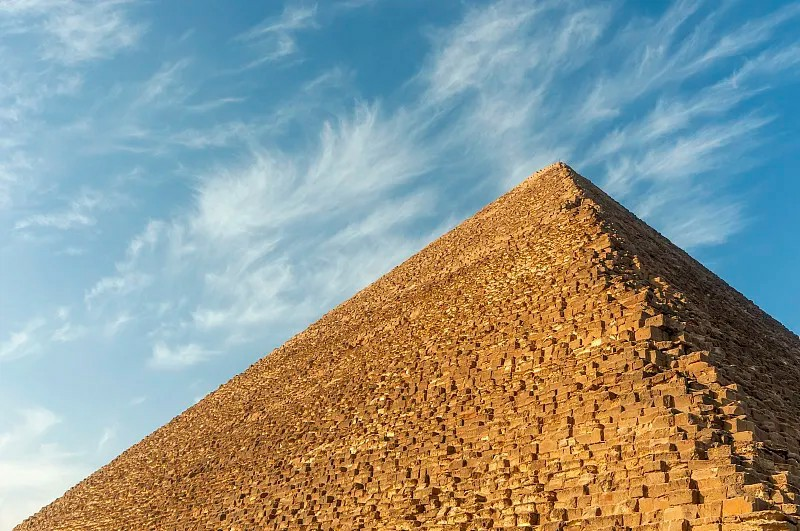Pyramid: (14, 161, 800, 531)
